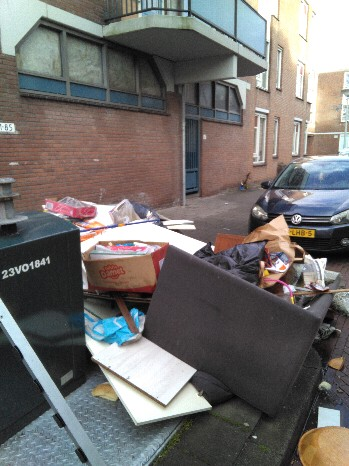Container: (1, 175, 83, 415)
Papier: (235, 226, 310, 287), (96, 235, 164, 298)
Rest: (164, 243, 307, 400), (88, 315, 186, 431), (52, 188, 141, 230), (131, 208, 199, 249)
Voertuig: (272, 158, 349, 260)
